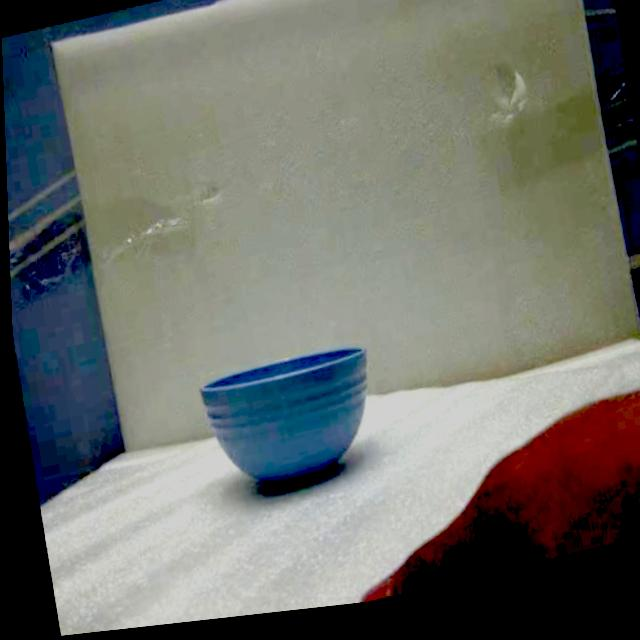Bowl: (201, 346, 367, 486)
